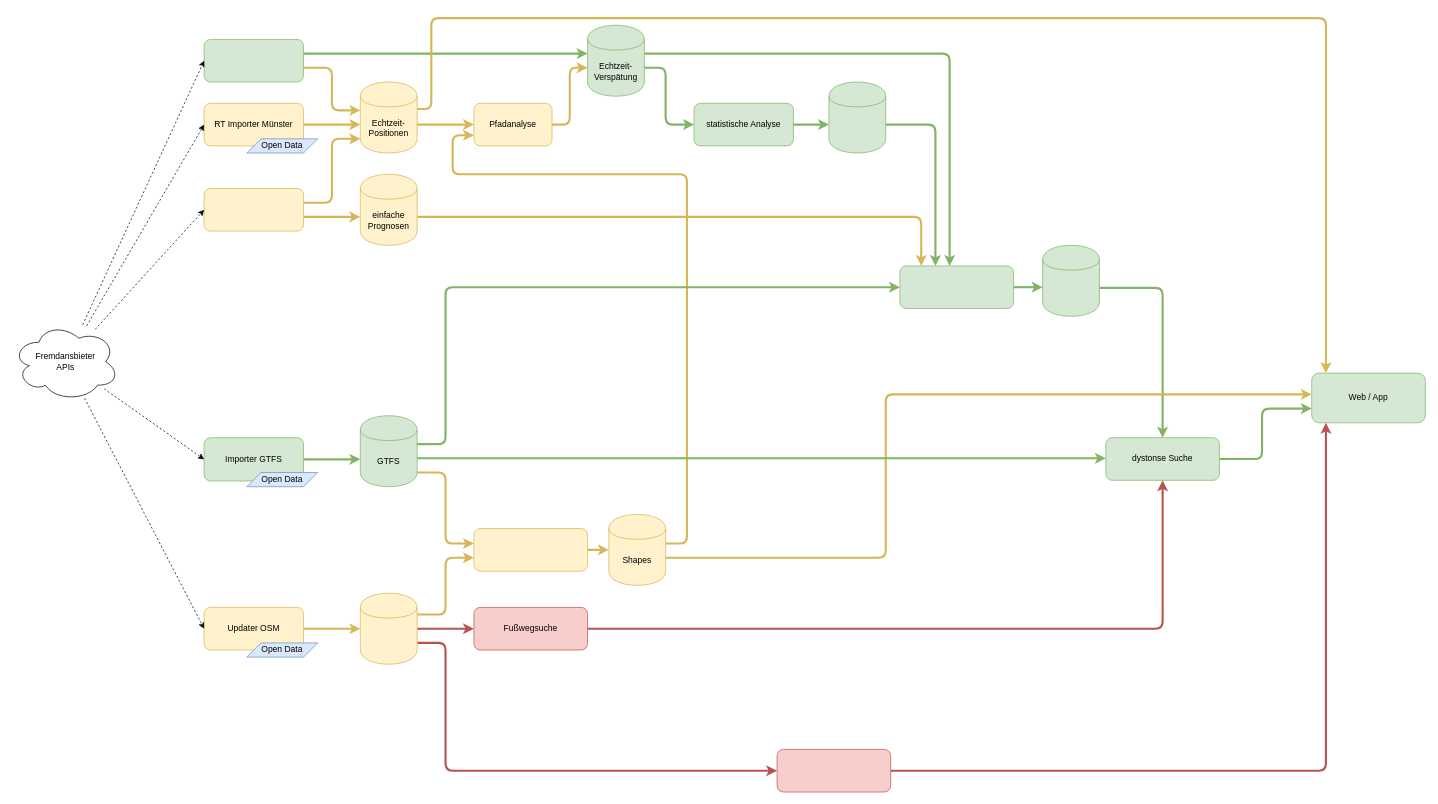
Some shapes in this 1438 by 804 pixel diagram are drawn without their labels. The centre of each missing label's shape, as x and y in pixels:
komplexe Prognosen: [1070,280]
OSM: [388,628]
Prognoseberechnung: [956,286]
RT Importer Bahn: [253,209]
RT Importer VBB: [253,60]
Shape-Aufbereitung ("Pfaedle"): [530,549]
Statistik: [857,117]
Tileserver: [833,770]
